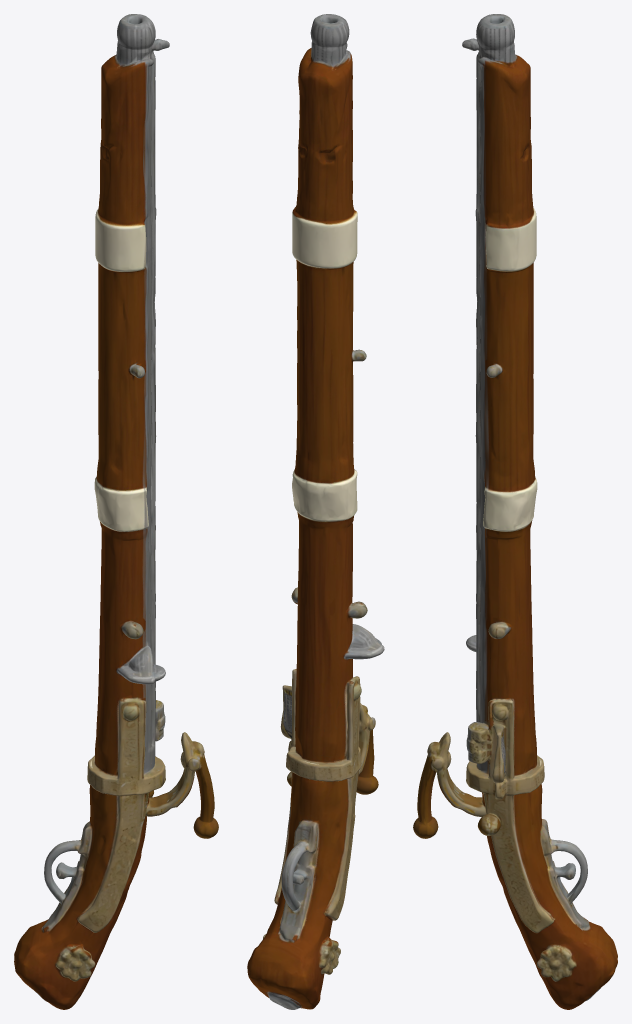
File: weapon_matchlock_01.glb
3 renders of one model, left to right at view 1: azimuth 90°, elevation 25°; view 2: azimuth 150°, elevation 25°; view 3: azimuth 270°, elevation 25°, orthographic. The views are drawn at different scales.
Parts seen in each view (by area): view 1: tripo_node_04389fe2-b61f-4955-af73-5a045bfe3603; view 2: tripo_node_04389fe2-b61f-4955-af73-5a045bfe3603; view 3: tripo_node_04389fe2-b61f-4955-af73-5a045bfe3603.
Part boxes in pixels (x1,y1,x2,y2): tripo_node_04389fe2-b61f-4955-af73-5a045bfe3603: (14,14,218,1009); tripo_node_04389fe2-b61f-4955-af73-5a045bfe3603: (247,14,384,1009); tripo_node_04389fe2-b61f-4955-af73-5a045bfe3603: (413,14,617,1009).
Size of the model in its own units: 0.0776 by 0.758 by 0.1432.
1 material, 1 textured.
